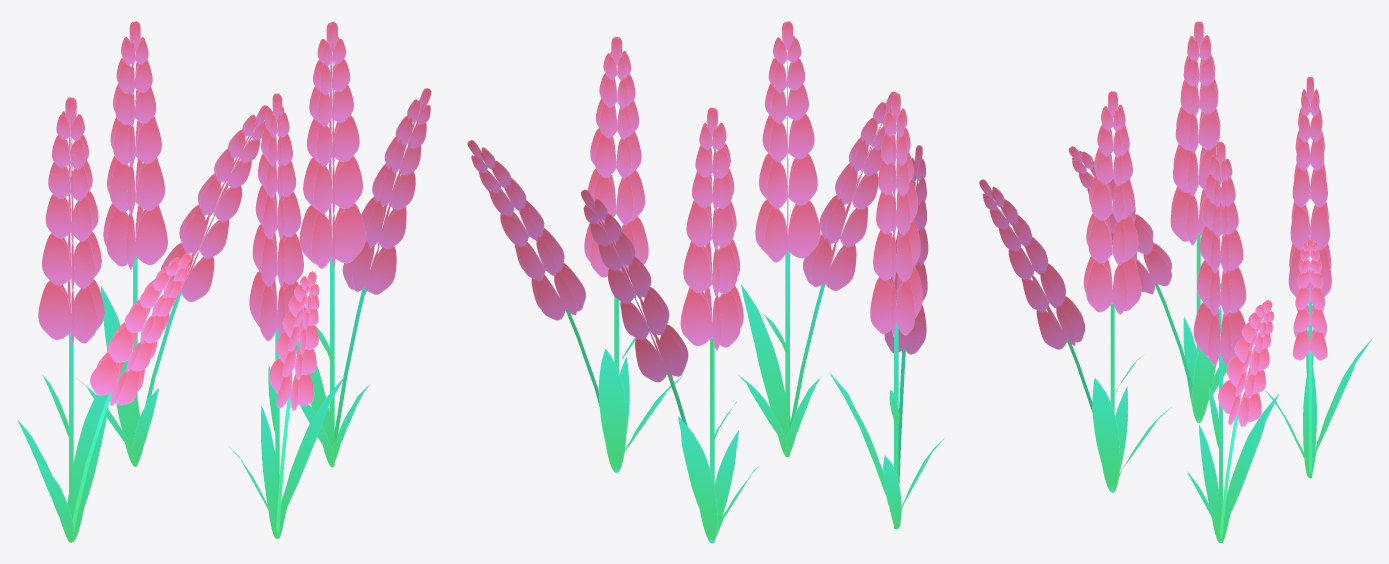
Rendered from Flowers_n03_04.fbx.
3 views of the same model, side by side, from view 1: azimuth 30°, elevation 25°; view 2: azimuth 150°, elevation 25°; view 3: azimuth 270°, elevation 25° (orthographic). The views are drawn at different scales.
Parts seen in each view (by area): view 1: polySurface463; view 2: polySurface463; view 3: polySurface463.
Part boxes in pixels (x1,y1,x2,y2): polySurface463: (17, 21, 431, 542); polySurface463: (467, 21, 944, 543); polySurface463: (979, 21, 1372, 542).
Bounding box in the file's own units: 91.12 × 89.24 × 78.36.
Materials: 1 (1 with a texture image).
